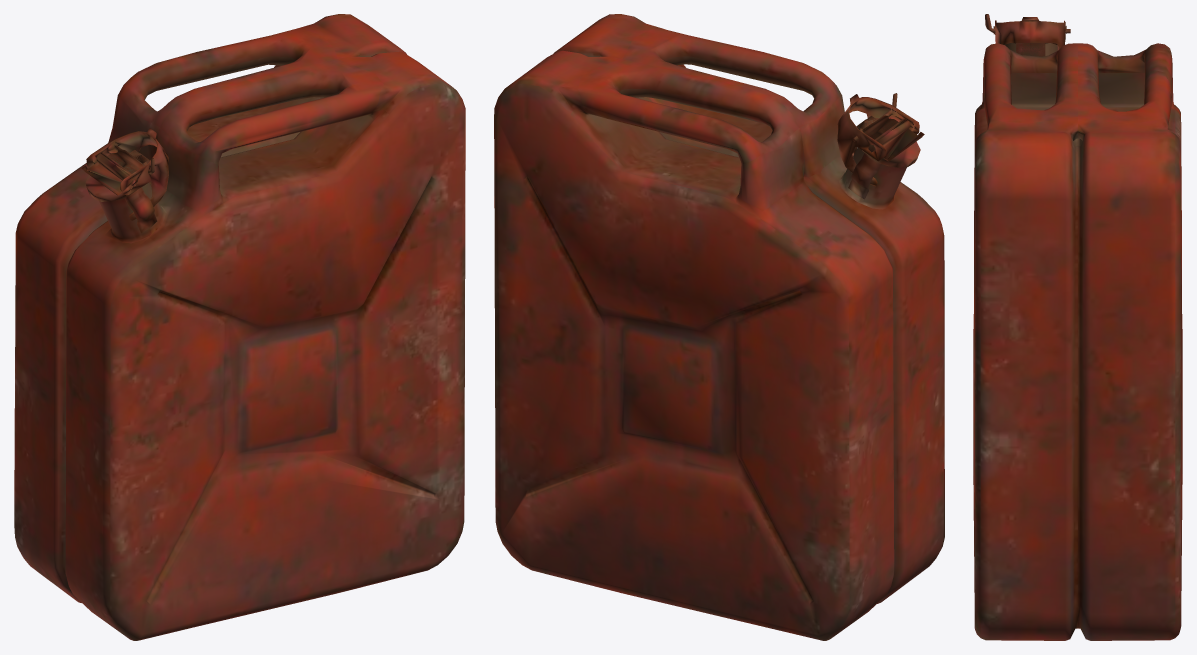
File: metal_jerrycan.glb
3 renders of one model, left to right at view 1: azimuth 30°, elevation 25°; view 2: azimuth 150°, elevation 25°; view 3: azimuth 270°, elevation 25°, orthographic. The views are drawn at different scales.
Visible parts, largest first — view 1: metal_jerrycan; view 2: metal_jerrycan; view 3: metal_jerrycan.
Part boxes in pixels (box(x1,y1,x2,y2)): metal_jerrycan: box(14, 14, 465, 640); metal_jerrycan: box(494, 14, 944, 640); metal_jerrycan: box(973, 14, 1182, 640).
Bounding box in the file's own units: 0.35 × 0.4549 × 0.1717.
Materials: 1 (1 with a texture image).
